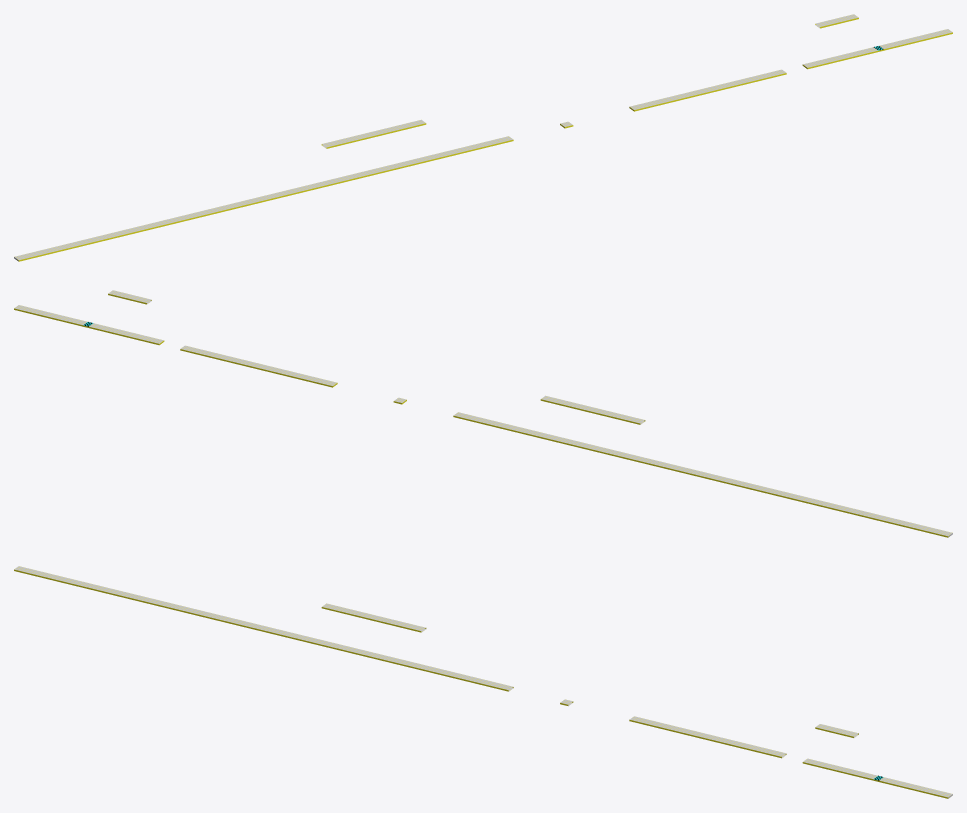
Rendered from Roud lvl13.fbx.
3 views of the same model, one above another, from view 1: azimuth 30°, elevation 25°; view 2: azimuth 150°, elevation 25°; view 3: azimuth 330°, elevation 25° (orthographic).
Parts seen in each view (by area): view 1: Roud, Roud.003, Roud.004, Roud.001; view 2: Roud, Roud.003, Roud.004, Roud.001; view 3: Roud, Roud.003, Roud.004, Roud.001.
Part boxes in pixels (left/top/right/bottom): Roud: left=14, top=136, right=513, bottom=261; Roud.003: left=629, top=69, right=786, bottom=111; Roud.004: left=802, top=29, right=952, bottom=69; Roud.001: left=321, top=119, right=426, bottom=148; Roud: left=453, top=412, right=952, bottom=537; Roud.003: left=180, top=345, right=337, bottom=387; Roud.004: left=14, top=305, right=164, bottom=345; Roud.001: left=540, top=395, right=645, bottom=424; Roud: left=14, top=566, right=513, bottom=691; Roud.003: left=629, top=716, right=786, bottom=758; Roud.004: left=802, top=758, right=952, bottom=798; Roud.001: left=321, top=603, right=426, bottom=632.
Bounding box in the file's own units: 67380 × 2700 × 600.
